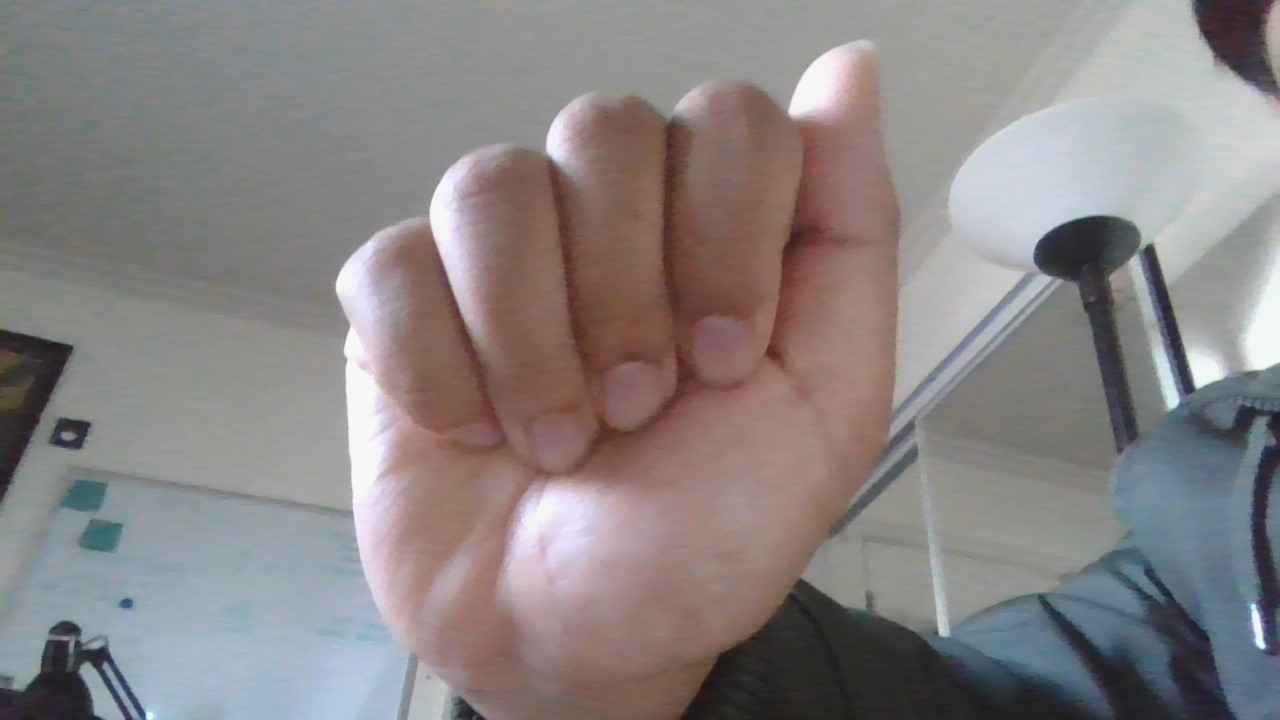a: (217, 33, 1035, 702)
